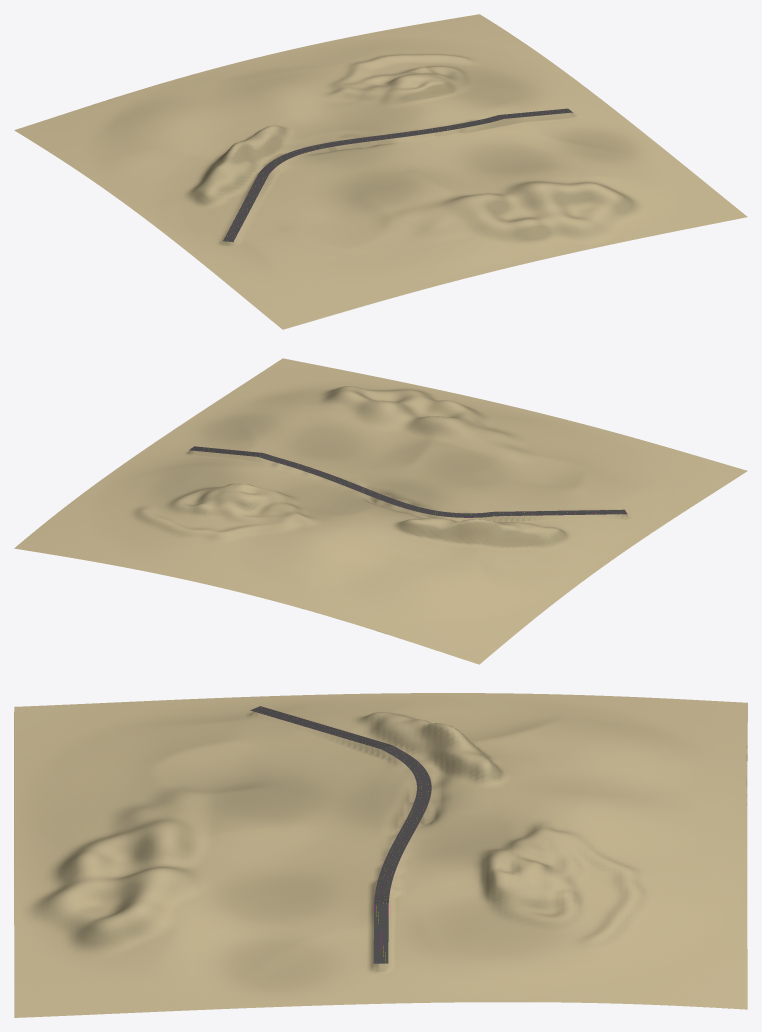
Rendered from mega.glb.
3 views of the same model, one above another, from view 1: azimuth 30°, elevation 25°; view 2: azimuth 150°, elevation 25°; view 3: azimuth 270°, elevation 25° (orthographic). The views are drawn at different scales.
Parts seen in each view (by area): view 1: Landscape, Road; view 2: Landscape, Road; view 3: Landscape, Road.
Boxes of the visible parts, box(x1,y1,x2,y2) form: Landscape: box(14, 14, 747, 329); Road: box(223, 108, 572, 242); Landscape: box(14, 358, 747, 664); Road: box(189, 446, 627, 517); Landscape: box(14, 693, 747, 1017); Road: box(250, 706, 431, 963).
Size of the model in its own units: 200 by 16.98 by 200.
Materials: 4 (1 with a texture image).
